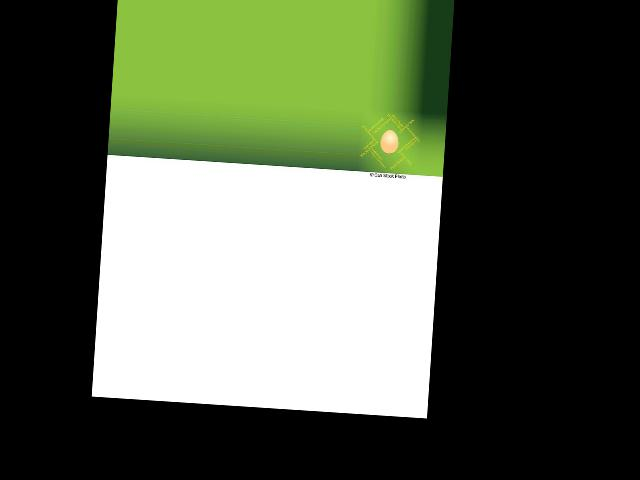egg: (380, 129, 399, 153)
